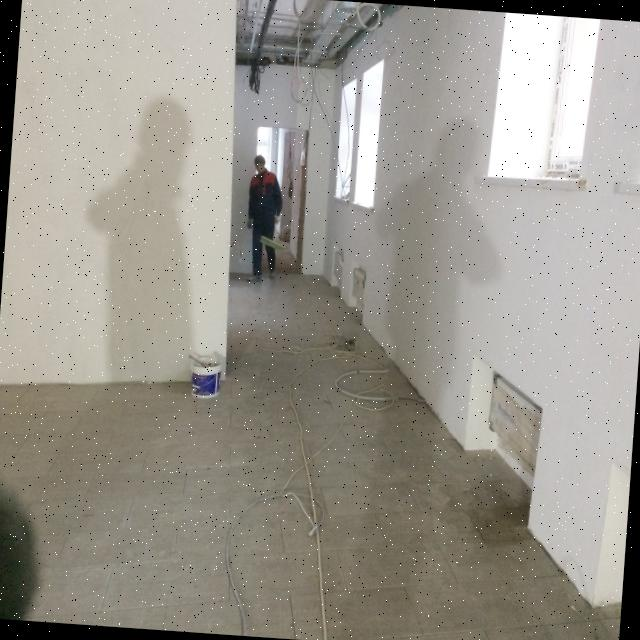NoHelmet: (254, 155, 268, 176)
